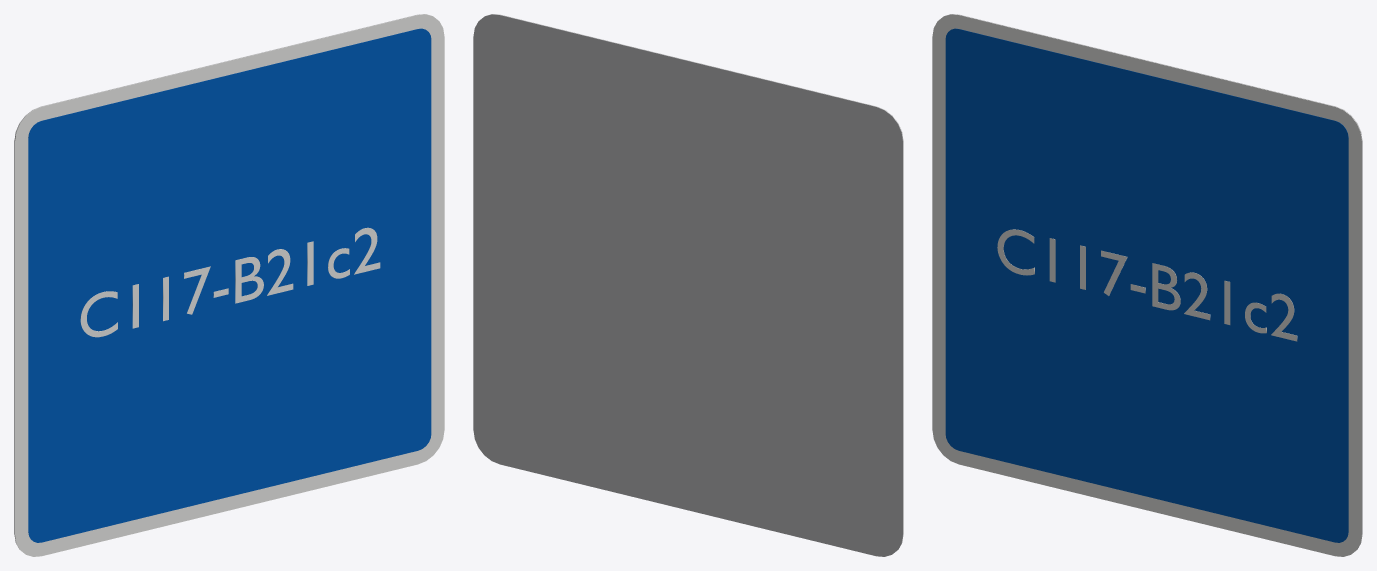
The picture shows the model from 3 angles, left to right: view 1: azimuth 30°, elevation 25°; view 2: azimuth 150°, elevation 25°; view 3: azimuth 330°, elevation 25°; orthographic projection.
Visible parts, largest first — view 1: C117-B21c2_fond01, C117-B21c2_cadre00, C117-B21c2_txt02, C117-B21c2_dos; view 2: C117-B21c2_dos, C117-B21c2_cadre00; view 3: C117-B21c2_fond01, C117-B21c2_cadre00, C117-B21c2_txt02, C117-B21c2_dos.
Part boxes in pixels (left/top/right/bottom): C117-B21c2_fond01: left=28, top=28, right=431, bottom=542; C117-B21c2_cadre00: left=15, top=14, right=444, bottom=556; C117-B21c2_txt02: left=80, top=227, right=380, bottom=337; C117-B21c2_dos: left=14, top=14, right=432, bottom=549; C117-B21c2_dos: left=473, top=14, right=903, bottom=556; C117-B21c2_cadre00: left=493, top=14, right=903, bottom=547; C117-B21c2_fond01: left=945, top=28, right=1348, bottom=542; C117-B21c2_cadre00: left=932, top=14, right=1361, bottom=556; C117-B21c2_txt02: left=997, top=229, right=1297, bottom=341; C117-B21c2_dos: left=944, top=14, right=1362, bottom=549.
Size of the model in its own units: 0.65 by 0.65 by 0.0025.
